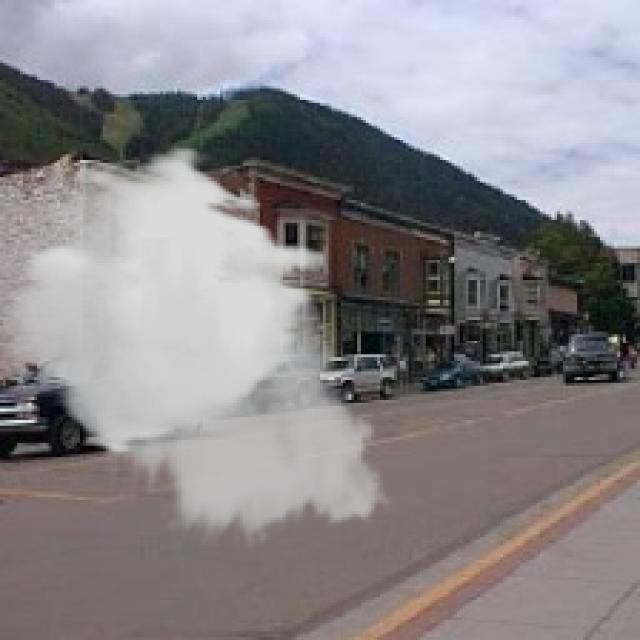smoke: (3, 146, 400, 548)
